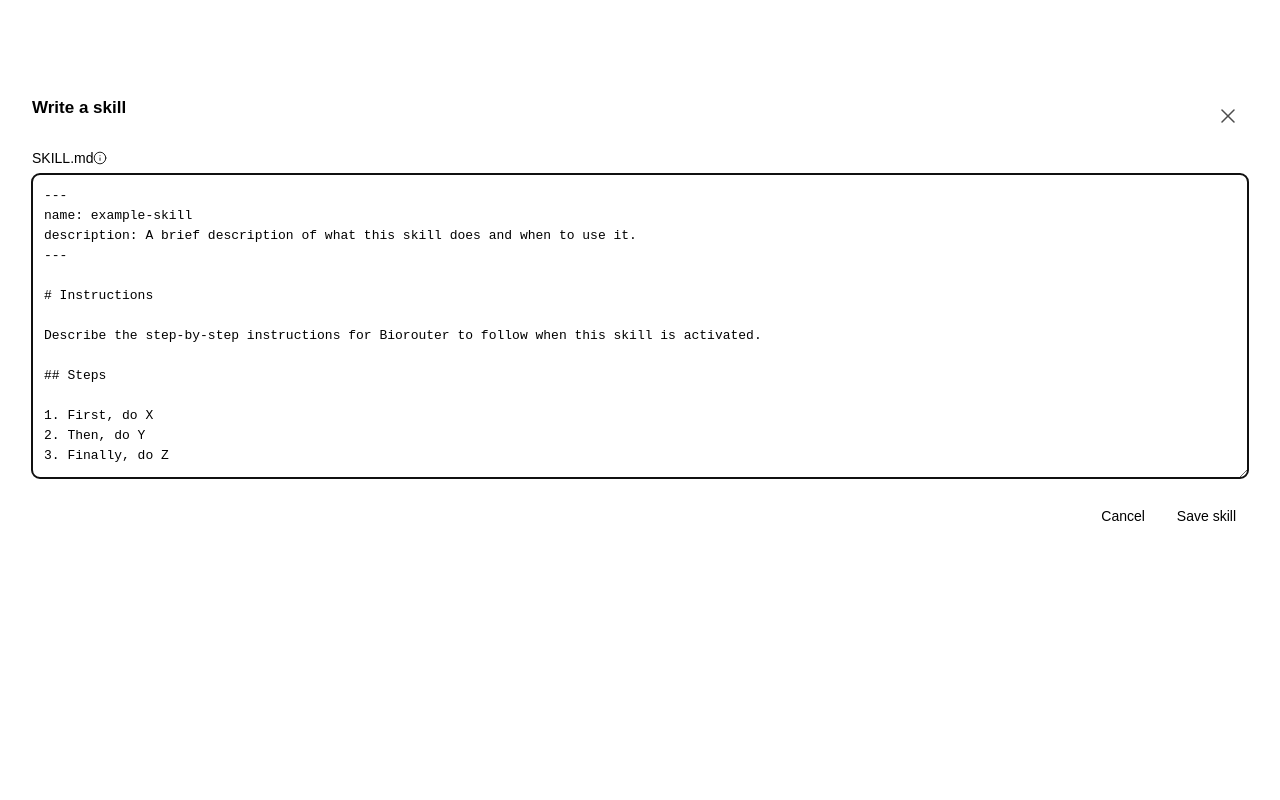
Test: CustomSkillModal: the guidance is help on demand › says what is missing when the frontmatter is not there
The image size is (1280, 800).
Replace the text in the text box labelled "SKILL.md" with "no frontmatter" at [640, 326], box x1=32 y1=174 x2=1248 y2=478
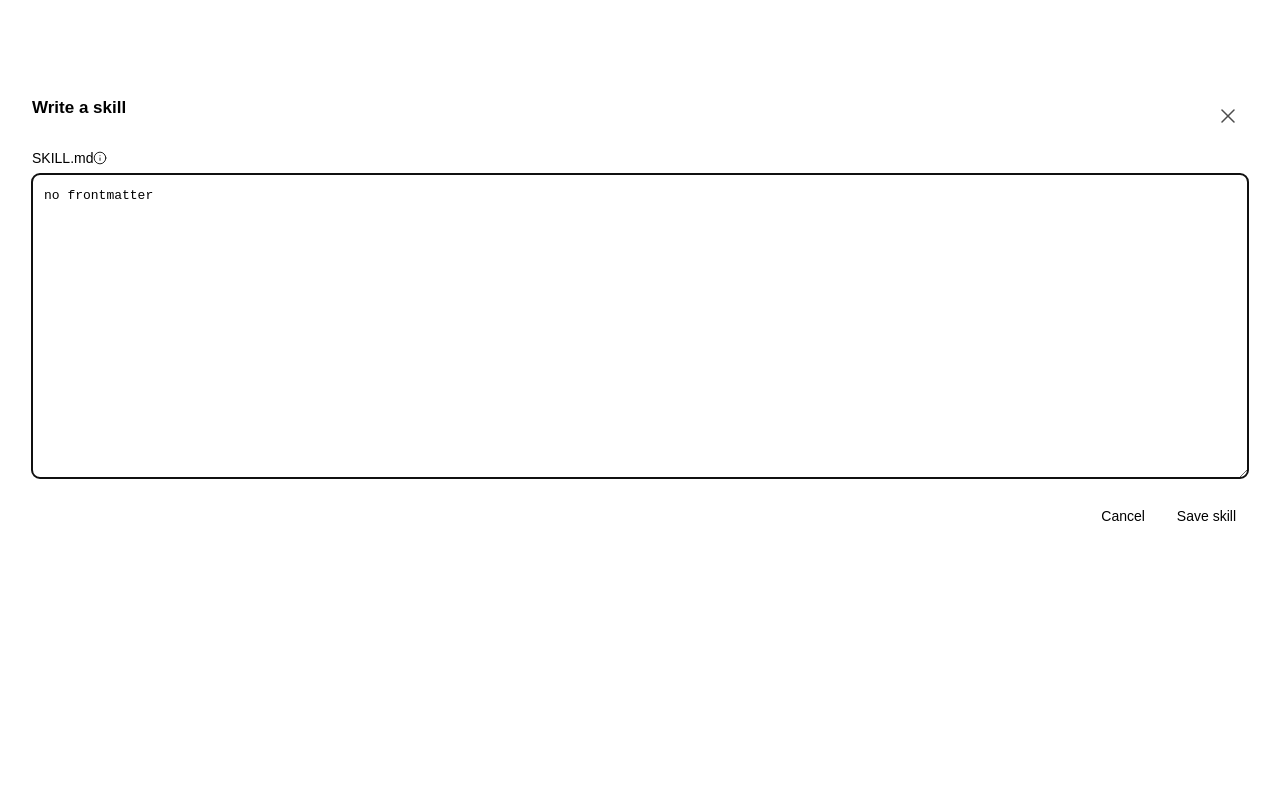
Click the button "Save skill".
click(1206, 516)  # box x1=1165 y1=506 x2=1248 y2=526
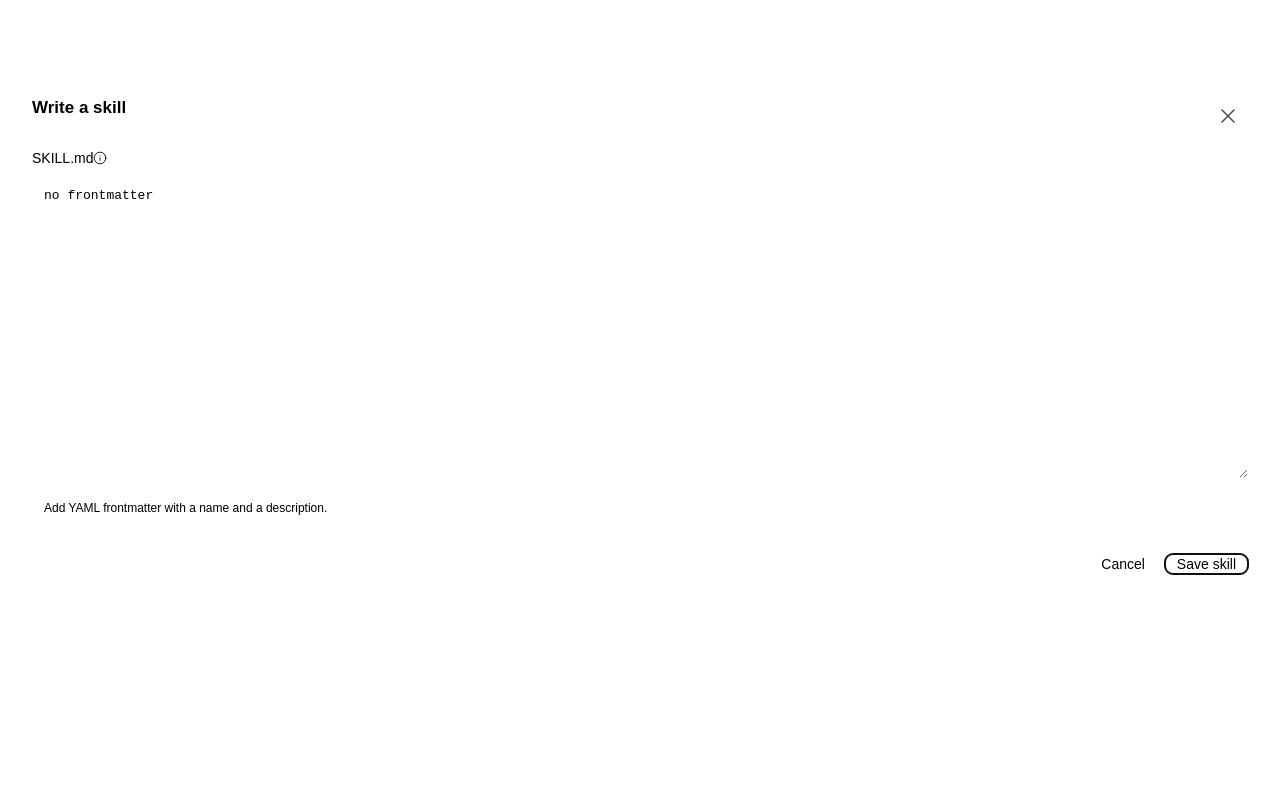
Check: the message reads "Add YAML frontmatter with a name and a description.", box x1=44 y1=501 x2=327 y2=515
